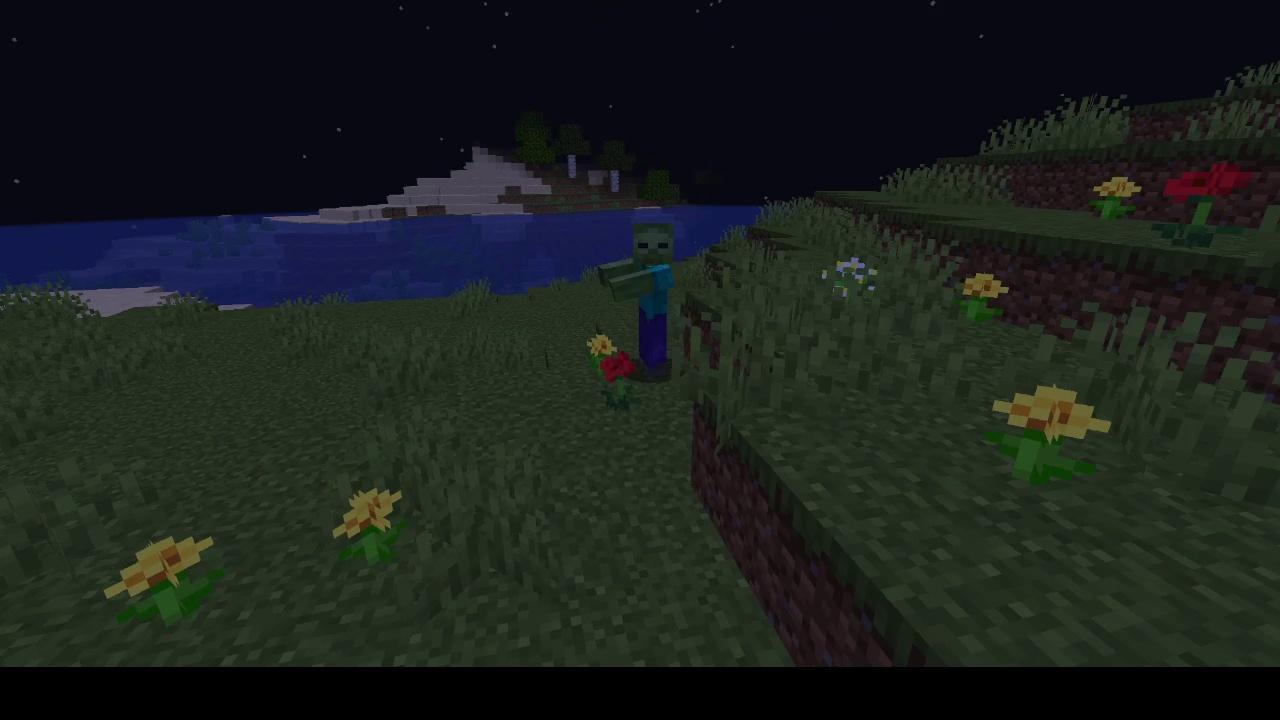zombie: (595, 221, 679, 380)
